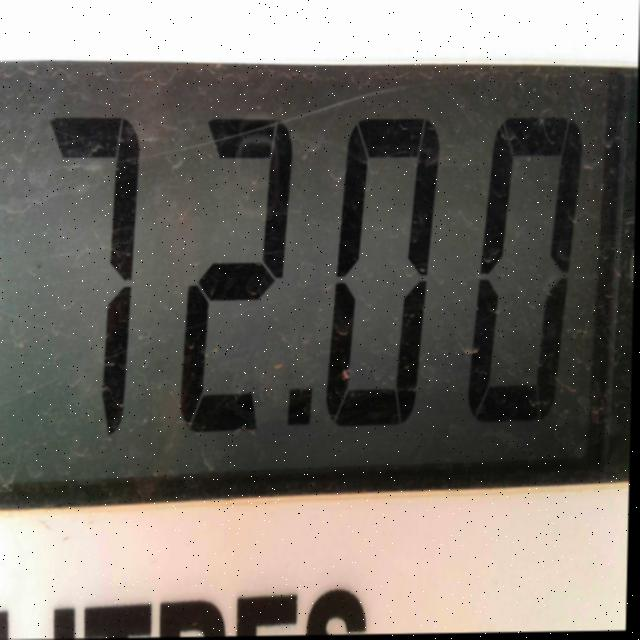.: (274, 371, 318, 451)
0: (309, 101, 451, 459), (462, 83, 596, 449)
2: (169, 105, 293, 438)
7: (38, 102, 162, 456)
